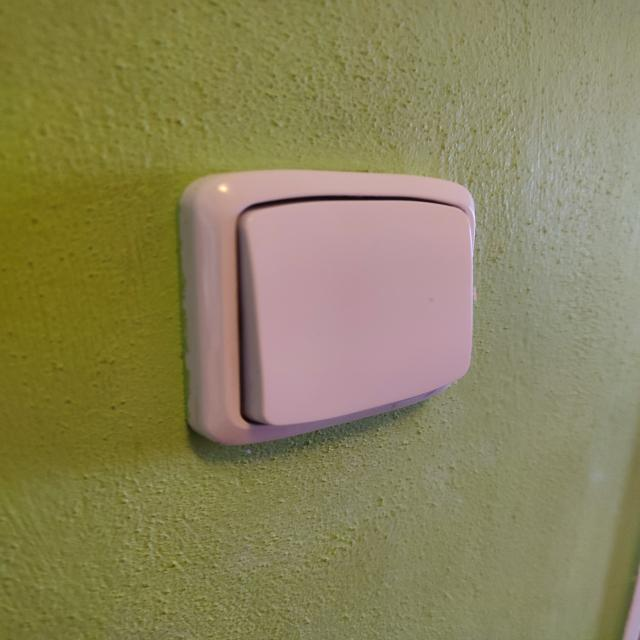house switch: (178, 170, 478, 447)
